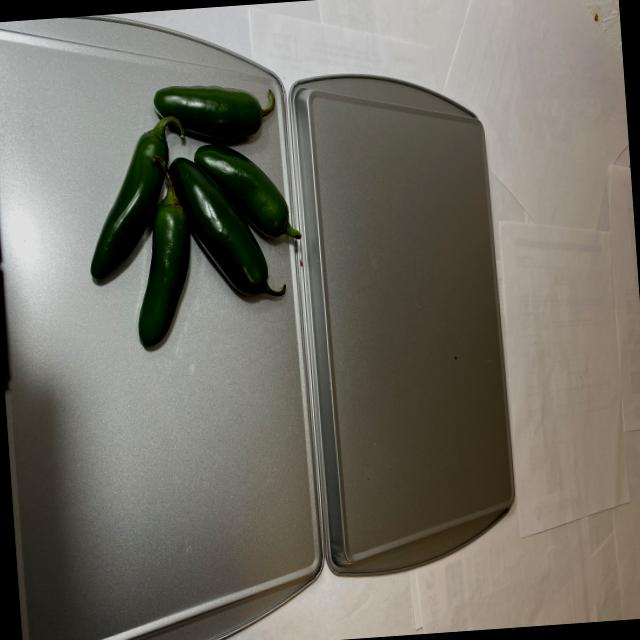chilli: (67, 76, 309, 362)
